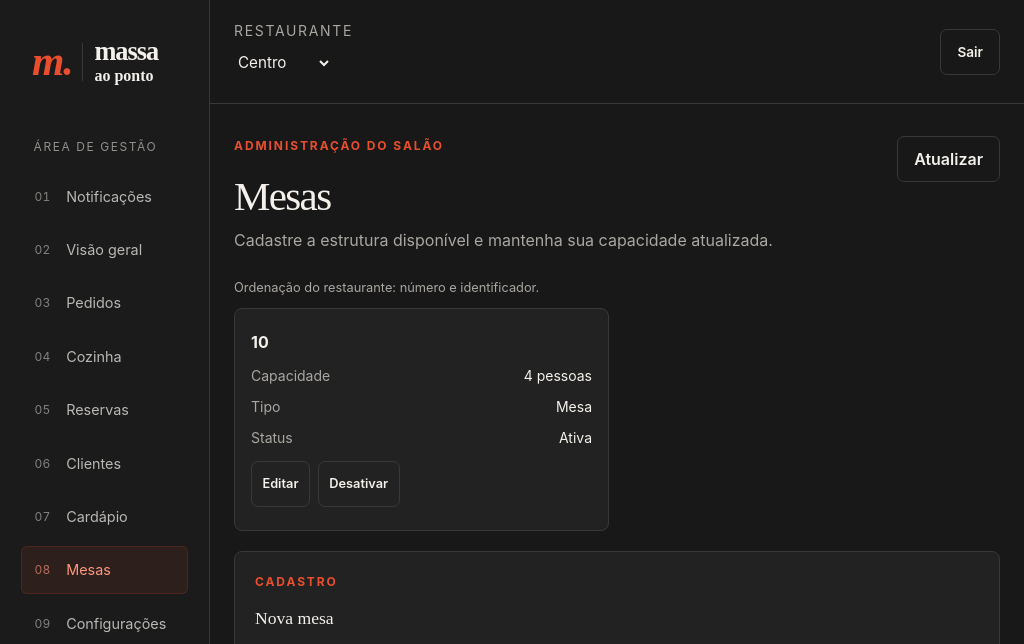
Test case: Tables UI › toggles active off and on without treating it as occupancy
Expected: the text "4 pessoas" is shown, 251,360 -> 592,391
Click the button "Desativar".
click(359, 484)  # box 318,461 -> 400,507
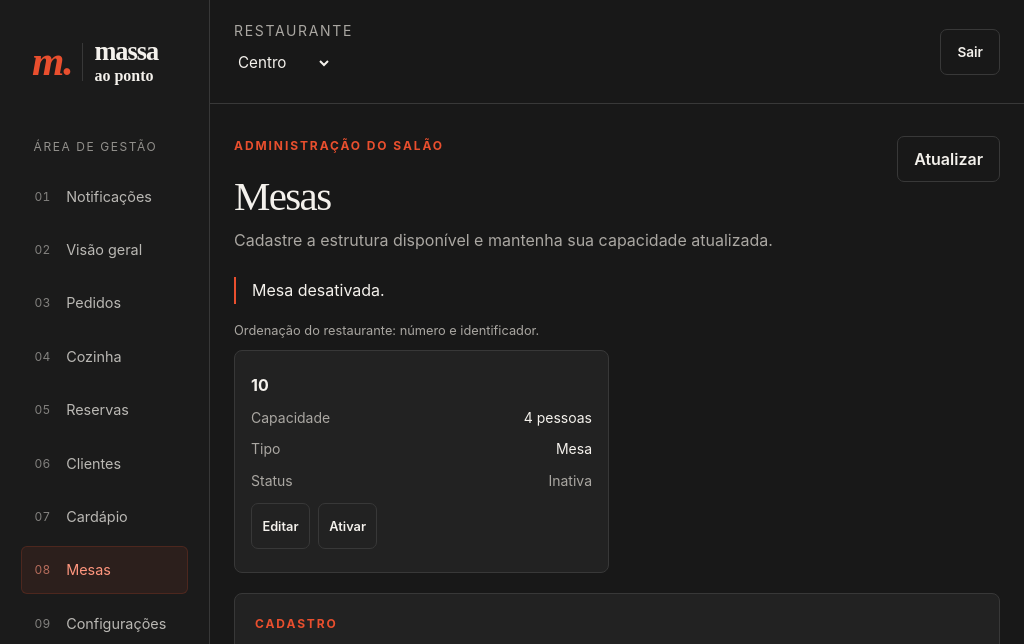
Now the text "Mesa desativada." is shown, box 234,277 -> 1000,304
Click the button "Ativar".
click(348, 526)  # box 318,503 -> 377,549
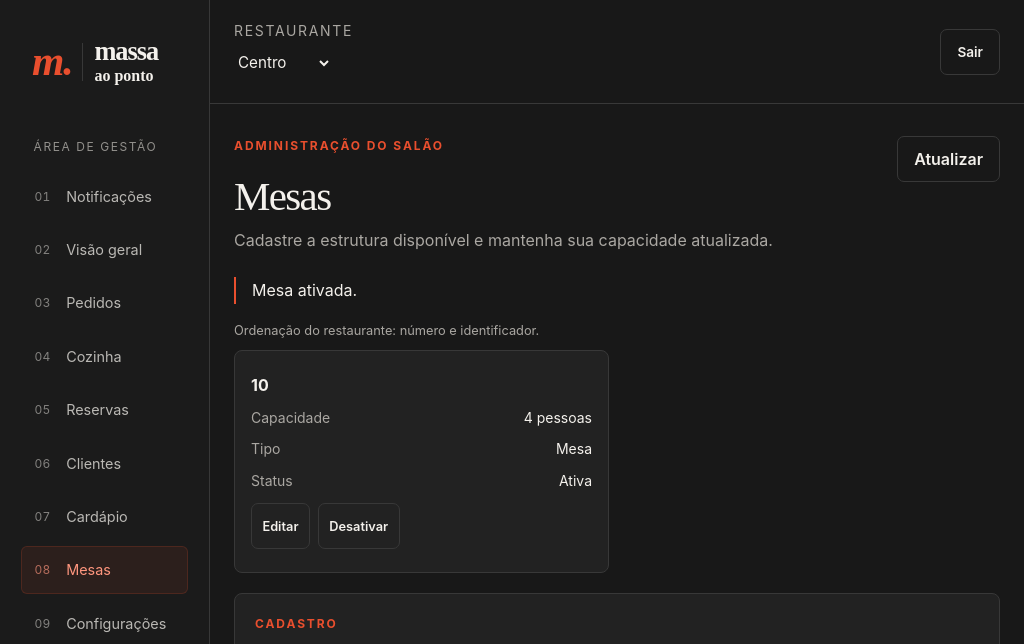
Now the text "Mesa ativada." is shown, box 234,277 -> 1000,304
